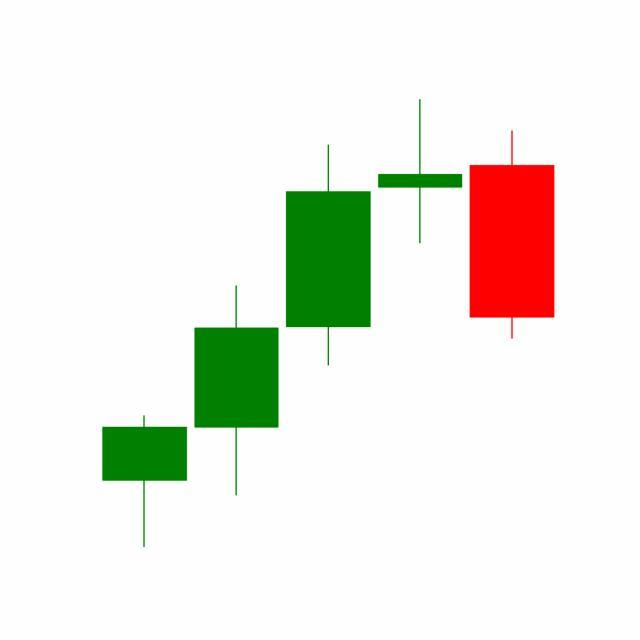Advance Block: (190, 100, 467, 502)
